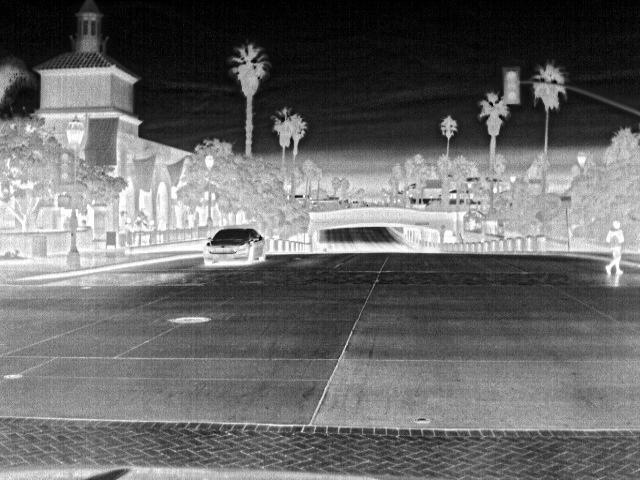car: (202, 227, 270, 263)
person: (603, 220, 626, 276), (121, 216, 136, 232), (156, 216, 169, 232)
